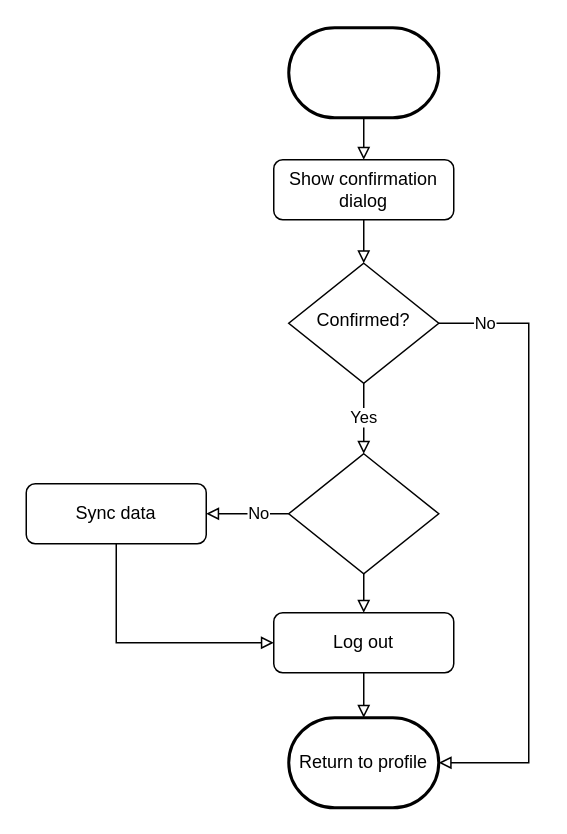
Some shapes in this 567 by 834 pixel diagram are drawn without their labels. The centre of each missing label's shape, as x and y in pixels:
"Data synced?" belongs at (363,513).
"User logs out" belongs at (363,72).
